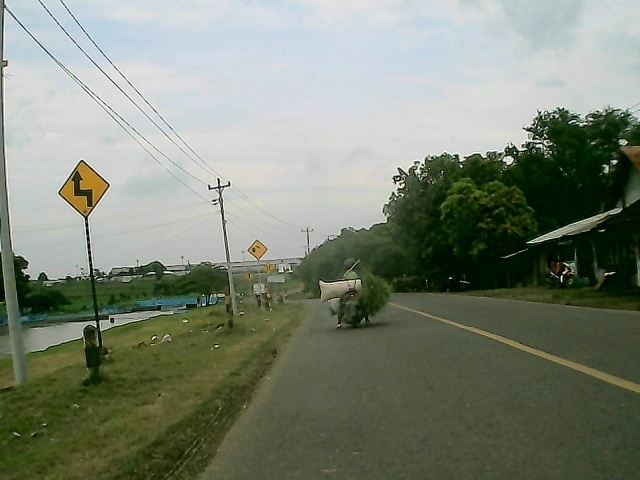Peringatan tepi air: (245, 238, 269, 261)
Tikungan garda pertama kiri: (57, 158, 112, 221)
